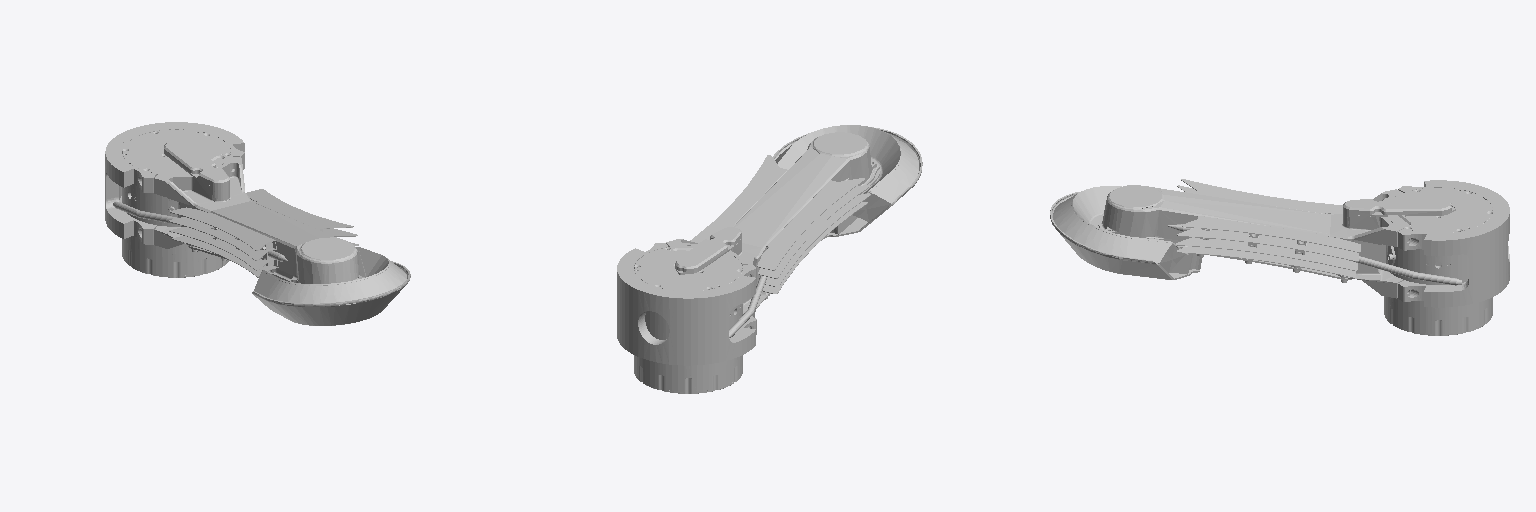
The model's file is anymal_thigh_r.obj.
The picture shows the model from 3 angles: view 1: azimuth 30°, elevation 25°; view 2: azimuth 150°, elevation 25°; view 3: azimuth 270°, elevation 25°; orthographic projection.
Bounding box in the file's own units: 130 × 109 × 380.